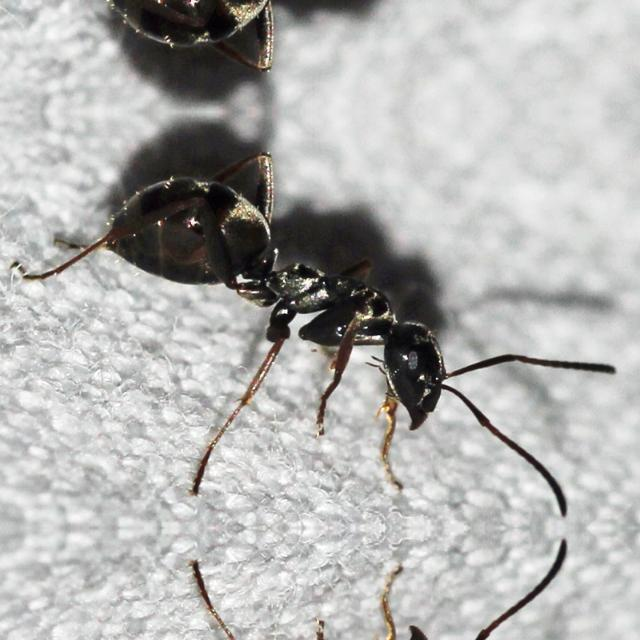Formica: (79, 136, 511, 446), (79, 0, 511, 86)
